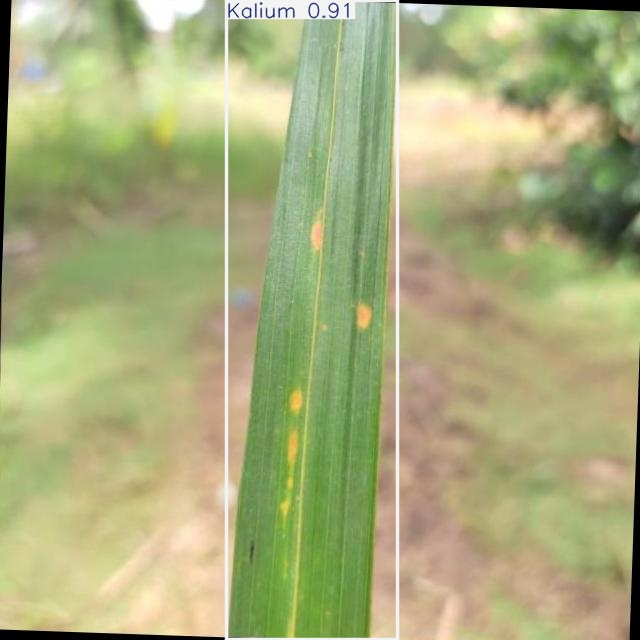Kalium: (227, 1, 398, 639)
